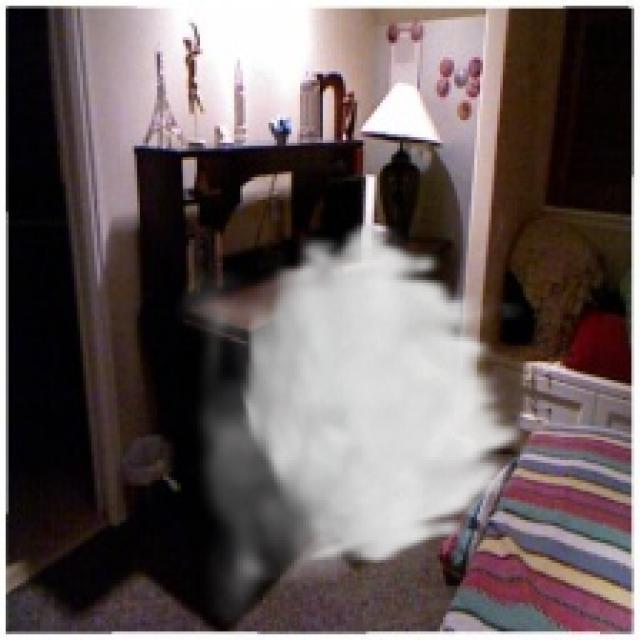Smoke: (172, 217, 534, 637)
